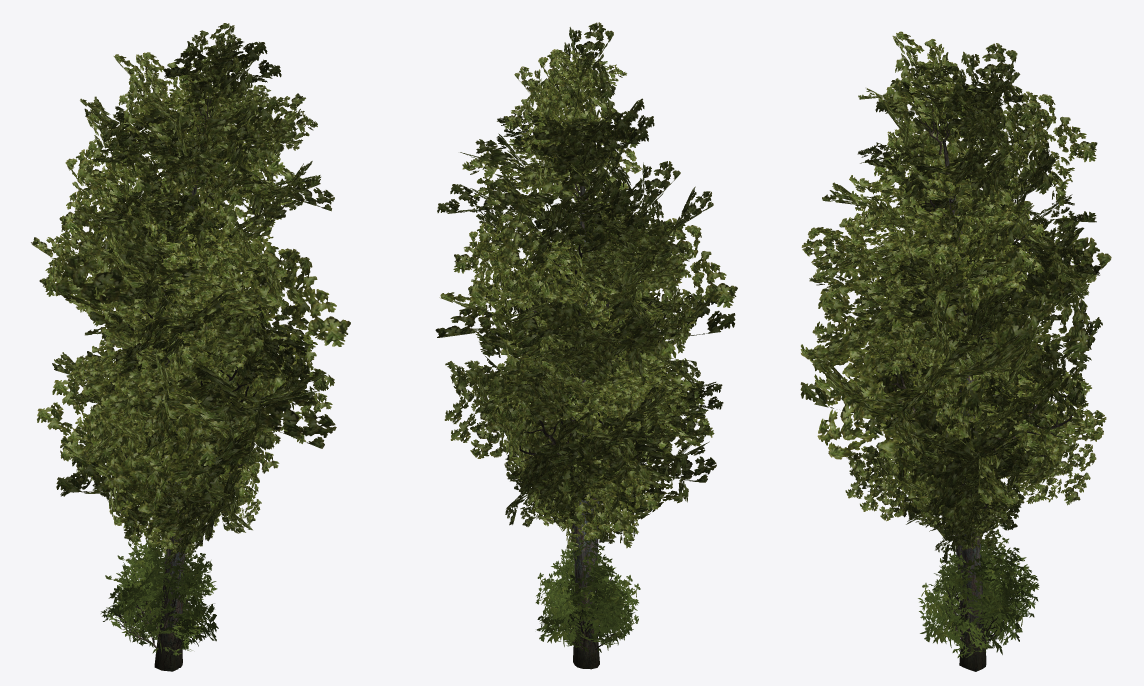
Rendered from zhiwu.fbx.
3 renders of one model, left to right at view 1: azimuth 30°, elevation 25°; view 2: azimuth 150°, elevation 25°; view 3: azimuth 270°, elevation 25°, orthographic. The views are drawn at different scales.
Visible parts, largest first — view 1: tree1, tree2, Ltree2, Ltree1; view 2: tree1, tree2, Ltree1, Ltree2; view 3: tree1, tree2, Ltree1, Ltree2.
Part boxes in pixels (x1,y1,x2,y2): tree1: (31,23,350,671); tree2: (37,194,294,667); Ltree2: (101,554,214,655); Ltree1: (105,532,218,655); tree1: (435,22,737,669); tree2: (487,203,716,579); Ltree1: (535,536,632,655); Ltree2: (543,558,640,652); tree1: (800,31,1111,671); tree2: (845,162,1061,668); Ltree1: (924,532,1039,657); Ltree2: (918,553,1038,653).
Size of the model in its own units: 8.26 by 17.98 by 8.57.
1 material, 1 textured.
